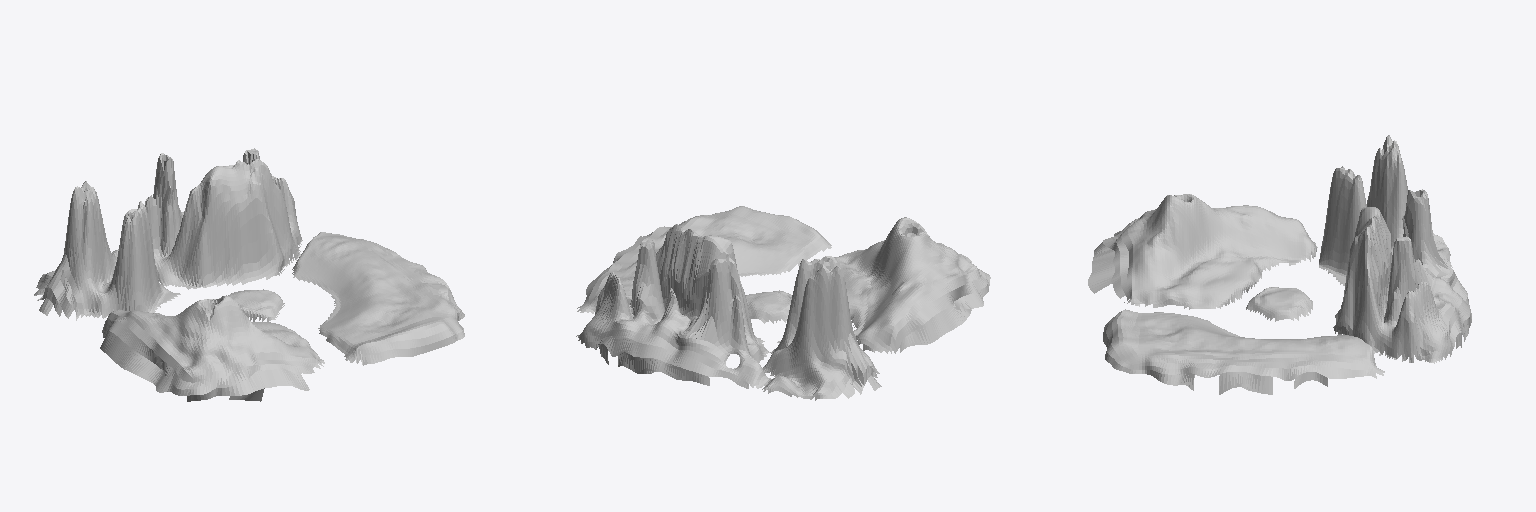
The model's file is finalTerrainModelobj.obj.
The picture shows the model from 3 angles: view 1: azimuth 30°, elevation 25°; view 2: azimuth 150°, elevation 25°; view 3: azimuth 270°, elevation 25°; orthographic projection.
Visible parts, largest first — view 1: Plane; view 2: Plane; view 3: Plane.
Part boxes in pixels (left/top/right/bottom): Plane: left=34, top=148, right=464, bottom=401; Plane: left=576, top=206, right=990, bottom=400; Plane: left=1088, top=135, right=1471, bottom=394.
Size of the model in its own units: 2.43 by 0.8581 by 2.46.